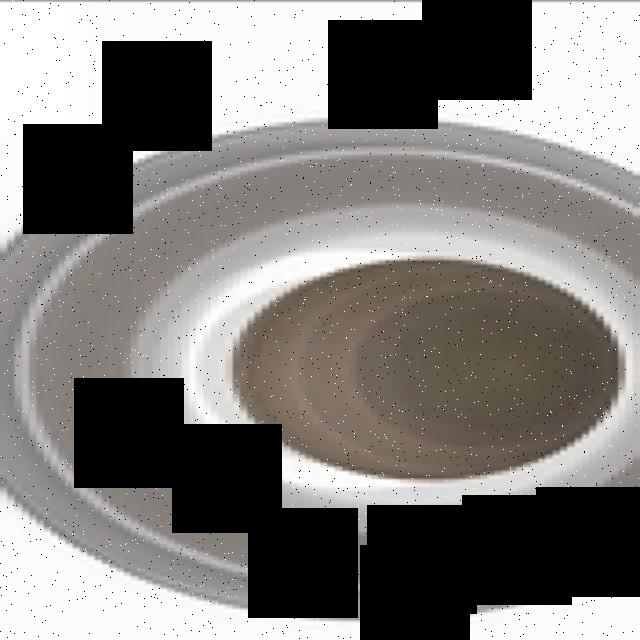Saturn: (0, 118, 640, 620)
